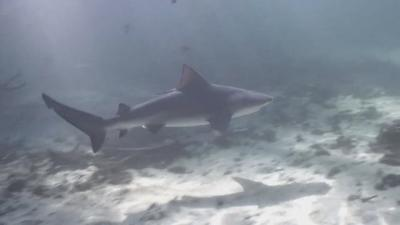Shark -Selachimorpha-: (36, 63, 277, 156)
